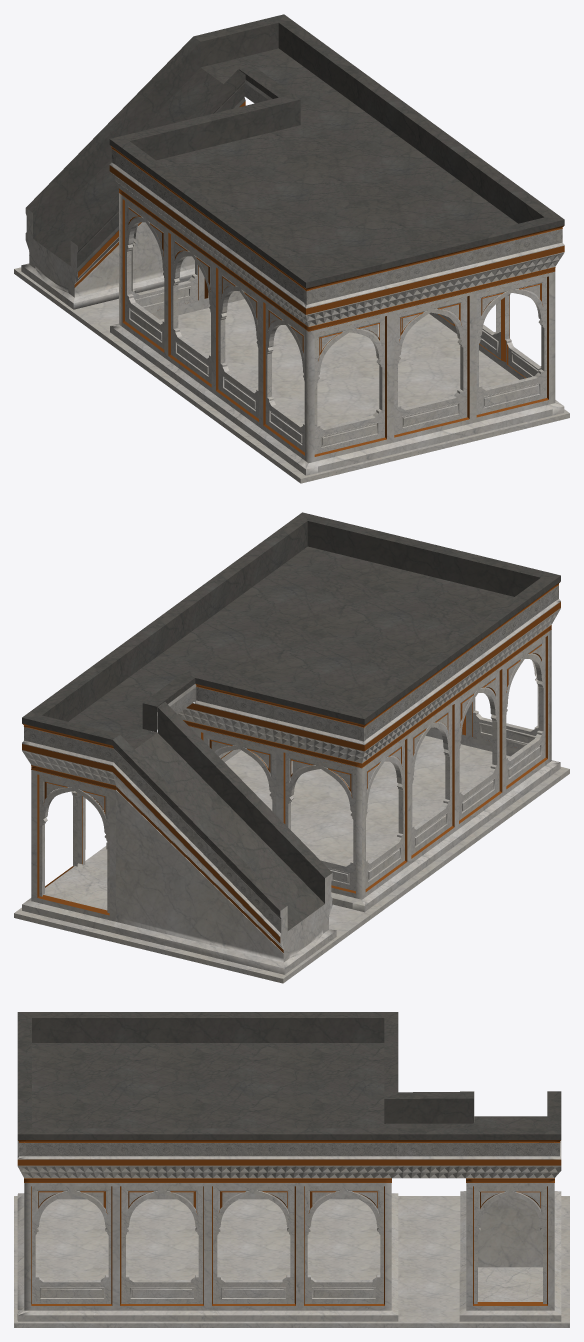
The model's file is Kart08_Mahfil.FBX.
3 views of the same model, one above another, from view 1: azimuth 30°, elevation 25°; view 2: azimuth 150°, elevation 25°; view 3: azimuth 270°, elevation 25° (orthographic). The views are drawn at different scales.
Parts seen in each view (by area): view 1: TavanMarbleDark, GovdeMarbleWhite, Kemerler, Taban, SariMetal, Isleme; view 2: TavanMarbleDark, GovdeMarbleWhite, Taban, Kemerler, SariMetal, Isleme; view 3: TavanMarbleDark, GovdeMarbleWhite, Taban, Kemerler, SariMetal, Isleme.
Boxes of the visible parts, left/top/right/bottom form: TavanMarbleDark: left=26, top=14, right=564, bottom=288; GovdeMarbleWhite: left=21, top=80, right=564, bottom=475; Kemerler: left=125, top=201, right=546, bottom=454; Taban: left=14, top=267, right=569, bottom=483; SariMetal: left=74, top=101, right=564, bottom=456; Isleme: left=111, top=83, right=562, bottom=304; TavanMarbleDark: left=22, top=512, right=560, bottom=930; GovdeMarbleWhite: left=22, top=599, right=560, bottom=974; Taban: left=14, top=736, right=569, bottom=983; Kemerler: left=39, top=637, right=545, bottom=912; SariMetal: left=22, top=582, right=560, bottom=952; Isleme: left=24, top=585, right=558, bottom=933; TavanMarbleDark: left=17, top=1012, right=561, bottom=1139; GovdeMarbleWhite: left=17, top=1091, right=561, bottom=1321; Taban: left=14, top=1196, right=569, bottom=1327; Kemerler: left=32, top=1186, right=546, bottom=1303; SariMetal: left=17, top=1140, right=561, bottom=1305; Isleme: left=19, top=1143, right=559, bottom=1156.
Bounding box in the file's own units: 228 × 160 × 422.
4 materials, 3 textured.
